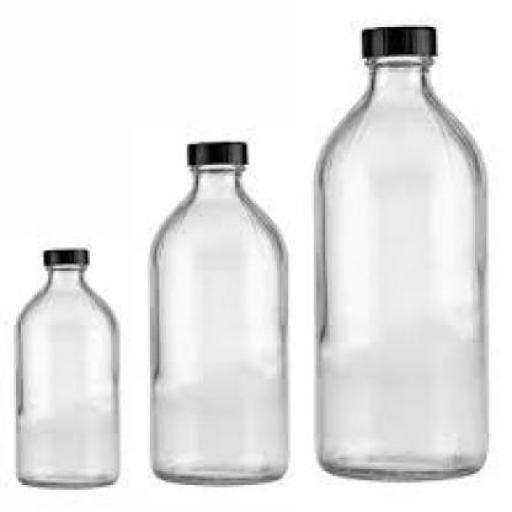glass: (311, 56, 487, 481), (147, 162, 289, 482), (16, 262, 118, 483)
metal: (360, 24, 434, 52), (185, 140, 245, 164), (41, 246, 83, 262)
